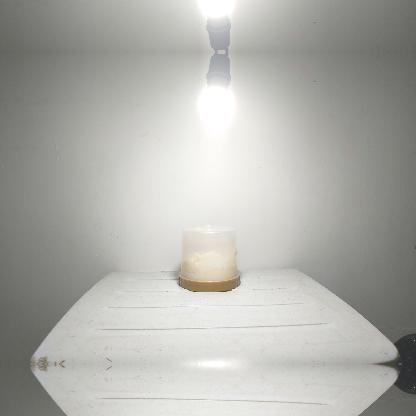Lady-s-Choice: (178, 224, 240, 292)
